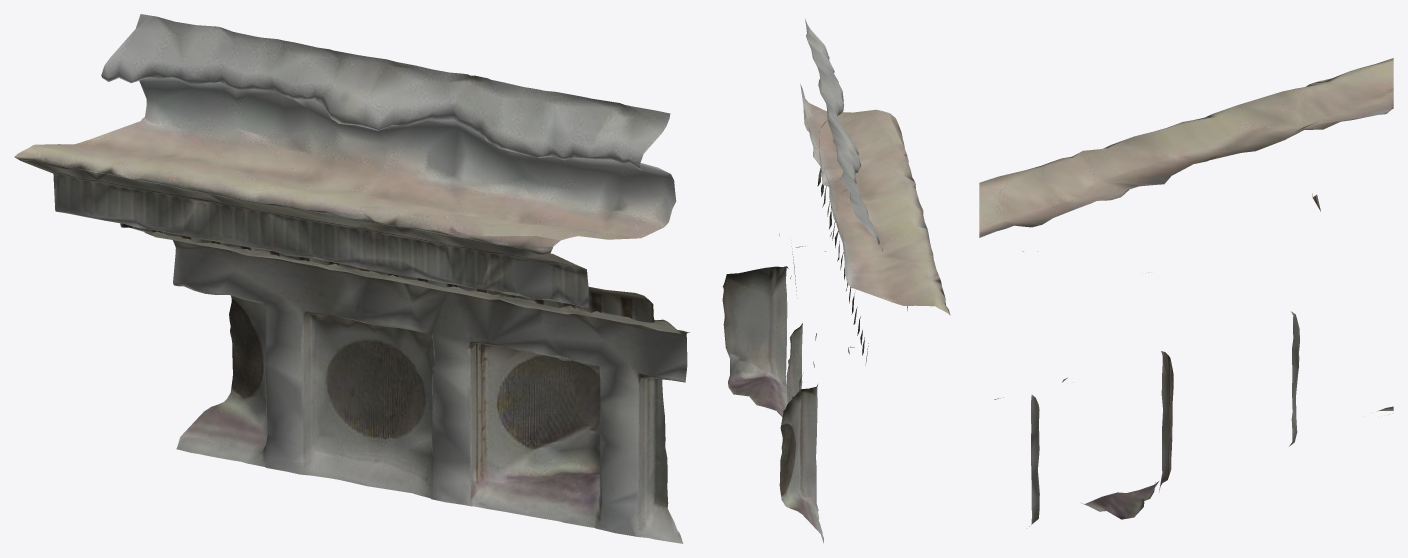
3 views of the same model, side by side, from view 1: azimuth 30°, elevation 25°; view 2: azimuth 150°, elevation 25°; view 3: azimuth 270°, elevation 25° (orthographic). The views are drawn at different scales.
Size of the model in its own units: 3.33 by 3.17 by 3.04.
1 material, 1 textured.
